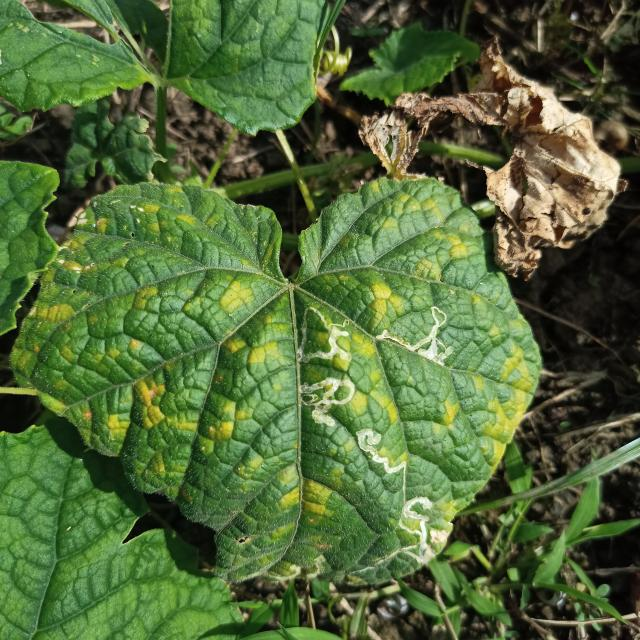disease_cucumber: (36, 185, 539, 580)
